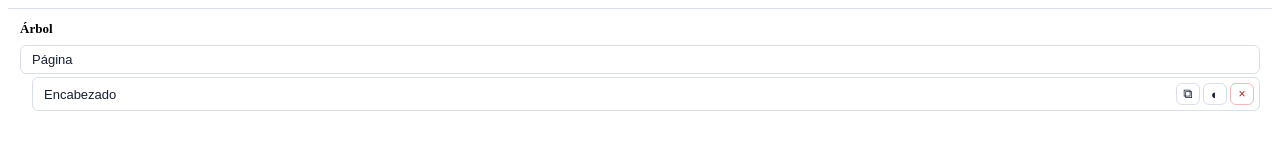
Scenario: NodeTree › renderiza el árbol y selecciona el nodo mediante el control sortable
The image size is (1280, 161).
Click the button with test id "tree-node" showing "Encabezado": (80, 94) left=38, top=86, right=1172, bottom=102
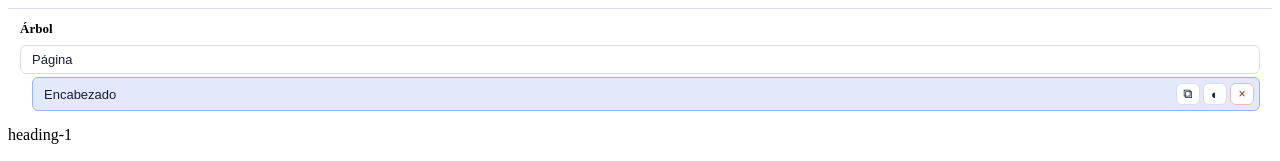
Now the text with test id "selection" reads "heading-1", box left=8, top=126, right=72, bottom=143
